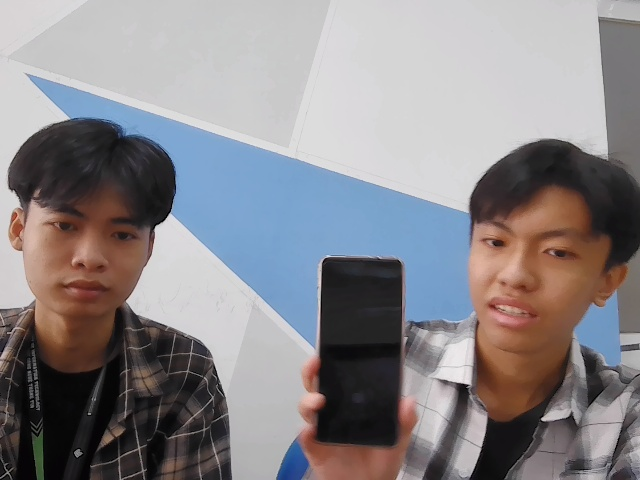human: (468, 134, 639, 353), (8, 118, 182, 333)
phone: (299, 240, 411, 455)
